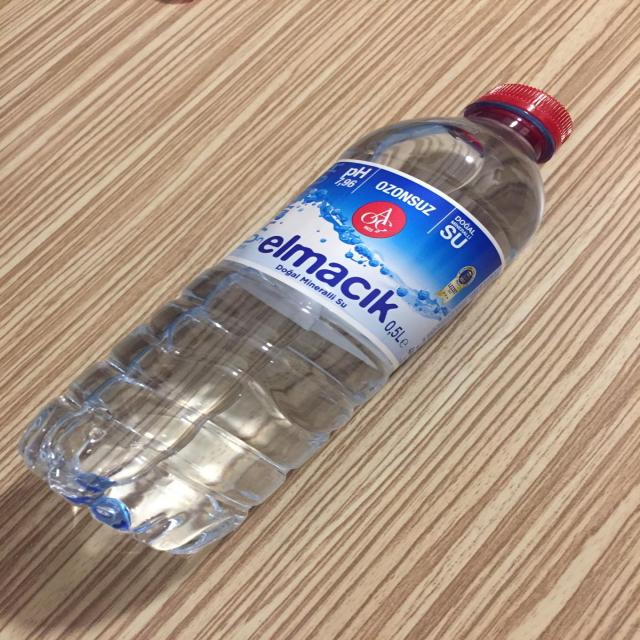bottle: (25, 80, 526, 558)
